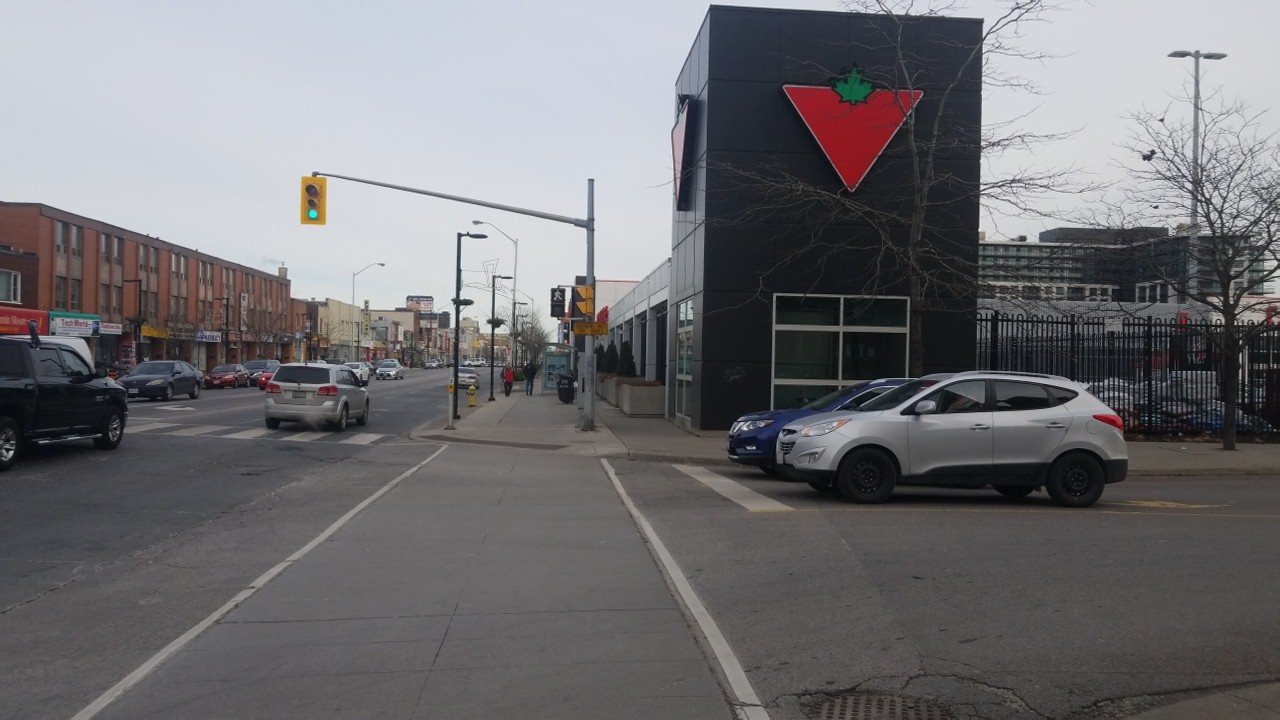light: (547, 284, 568, 321)
